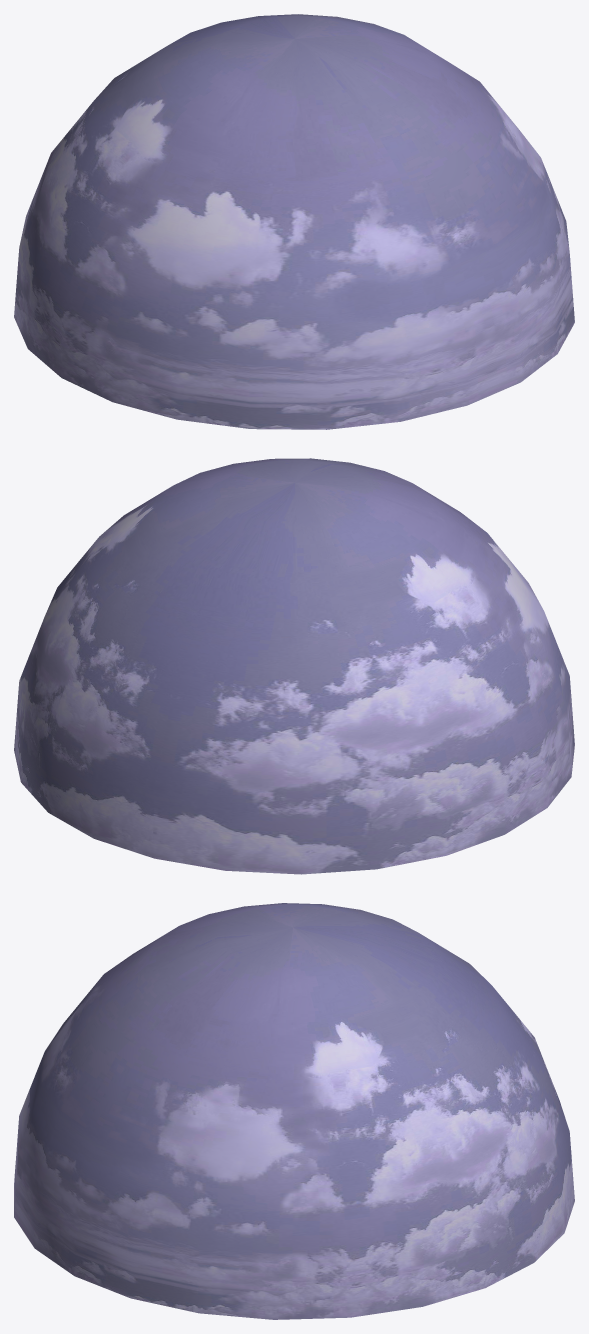
Rendered from Sky.FBX.
3 renders of one model, top to bottom at view 1: azimuth 30°, elevation 25°; view 2: azimuth 150°, elevation 25°; view 3: azimuth 270°, elevation 25°, orthographic.
Parts seen in each view (by area): view 1: Sphere01; view 2: Sphere01; view 3: Sphere01.
Part boxes in pixels (left/top/right/bottom): Sphere01: left=14, top=14, right=574, bottom=429; Sphere01: left=14, top=458, right=574, bottom=874; Sphere01: left=14, top=903, right=574, bottom=1319.
Bounding box in the file's own units: 597 × 596 × 320.
Materials: 1 (1 with a texture image).
